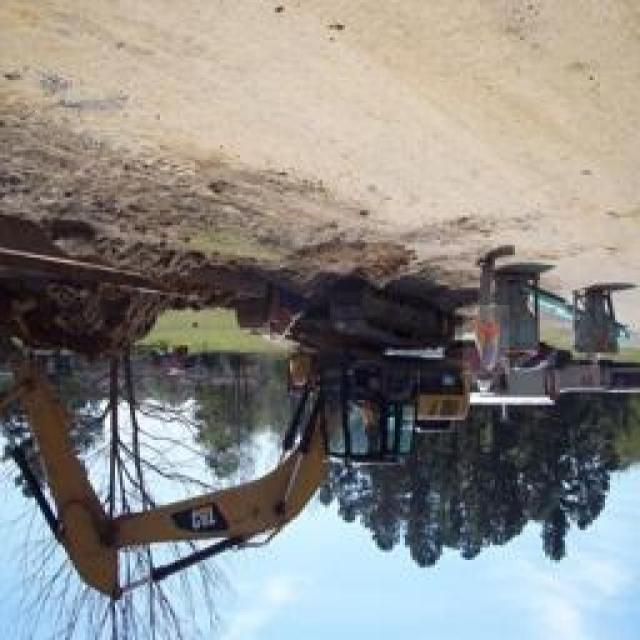Helmet: (472, 364, 500, 402)
Safety Vest: (462, 305, 510, 374)
